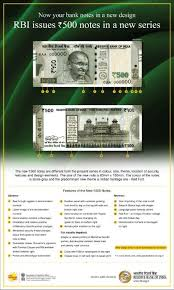fiveHundred: (38, 49, 136, 80)
